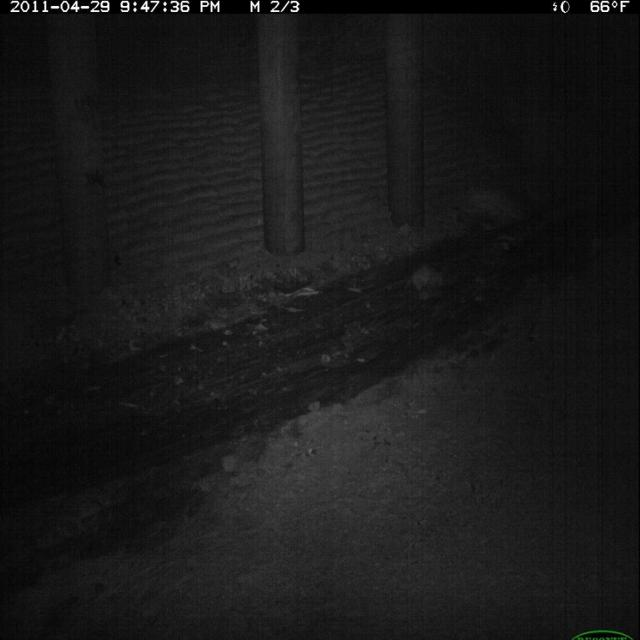opossum: (399, 262, 449, 303)
